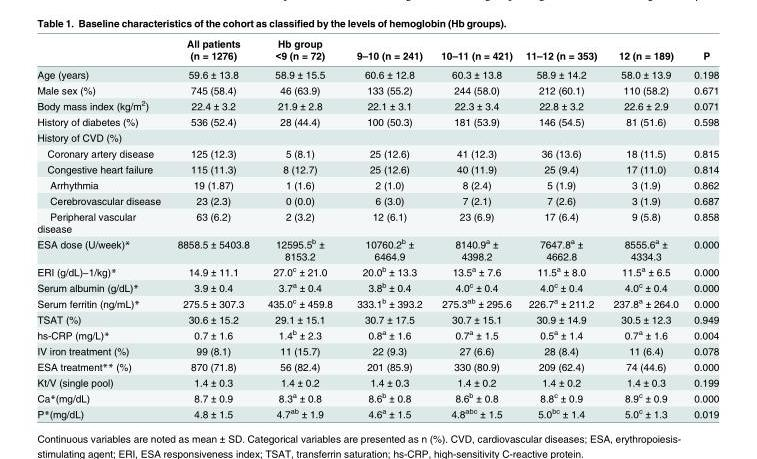table: (36, 37, 718, 419)
table column: (36, 37, 168, 419), (168, 37, 257, 419), (343, 37, 431, 419), (431, 37, 518, 419), (257, 37, 343, 419), (518, 37, 604, 419), (604, 37, 685, 419), (685, 37, 718, 419)
table column header: (36, 37, 718, 64)
table projected row header: (36, 129, 718, 145)
table row: (36, 235, 718, 263), (36, 208, 718, 235), (36, 64, 718, 82), (36, 294, 718, 311), (36, 97, 718, 113), (36, 113, 718, 129), (36, 129, 718, 145), (36, 160, 718, 176), (36, 176, 718, 192), (36, 192, 718, 208), (36, 263, 718, 279), (36, 326, 718, 342), (36, 342, 718, 358), (36, 358, 718, 374), (36, 389, 718, 405), (36, 49, 718, 64), (36, 82, 718, 97), (36, 145, 718, 160), (36, 279, 718, 294), (36, 311, 718, 326), (36, 374, 718, 389), (36, 405, 718, 419), (36, 37, 718, 49)
table spanning cell: (168, 37, 257, 64), (343, 37, 431, 64), (431, 37, 518, 64), (257, 37, 343, 64), (518, 37, 604, 64), (604, 37, 685, 64), (685, 37, 718, 64)
